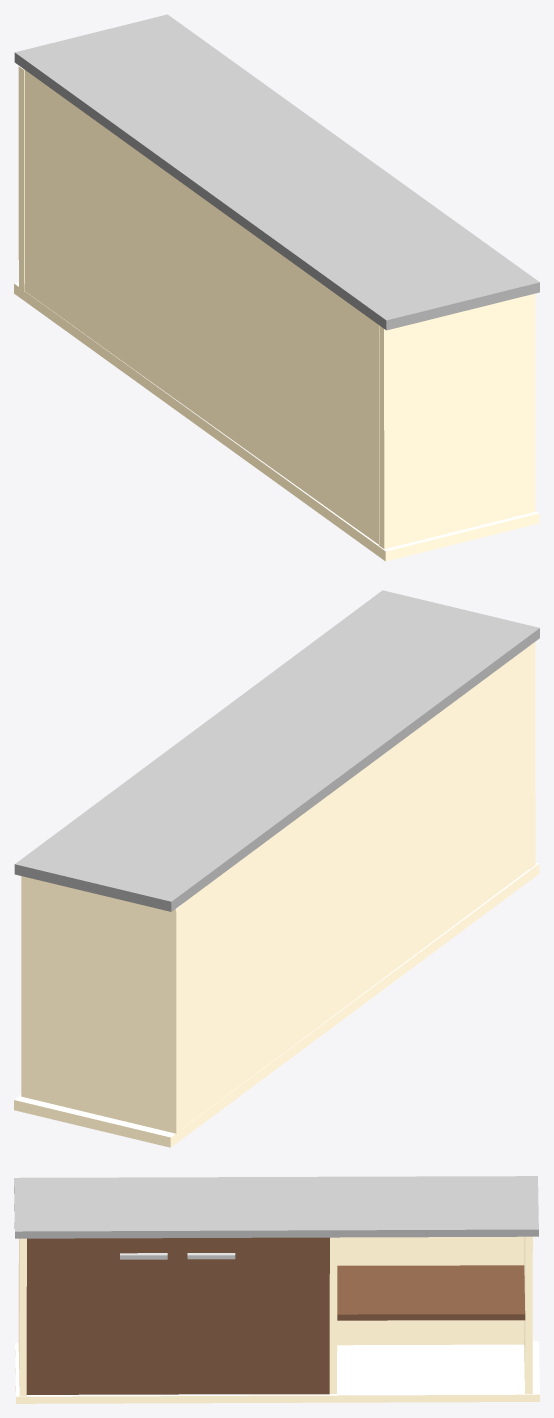
3 renders of one model, top to bottom at view 1: azimuth 30°, elevation 25°; view 2: azimuth 150°, elevation 25°; view 3: azimuth 270°, elevation 25°, orthographic. The views are drawn at different scales.
Visible parts, largest first — view 1: Cube.062, Cube.055, Cube.061, Cube.064, Cube.063; view 2: Cube.062, Cube.055, Cube.063, Cube.064, Cube.061; view 3: Cube.055, Cube.057, Cube.056, Cube.064, Cube.059, Cube.062, Cube.063, Cube.061, Cube.060, Cube.053, Cube.054.
Boxes of the visible parts, left/top/right/bottom form: Cube.062: left=24, top=70, right=379, bottom=544; Cube.055: left=14, top=14, right=539, bottom=330; Cube.061: left=379, top=293, right=535, bottom=549; Cube.064: left=14, top=282, right=539, bottom=561; Cube.063: left=18, top=66, right=24, bottom=291; Cube.062: left=180, top=645, right=530, bottom=1128; Cube.055: left=14, top=590, right=539, bottom=911; Cube.063: left=21, top=876, right=181, bottom=1134; Cube.064: left=14, top=863, right=539, bottom=1147; Cube.061: left=530, top=642, right=535, bottom=868; Cube.055: left=14, top=1176, right=538, bottom=1238; Cube.057: left=26, top=1238, right=178, bottom=1394; Cube.056: left=178, top=1237, right=329, bottom=1394; Cube.064: left=15, top=1341, right=539, bottom=1403; Cube.059: left=337, top=1265, right=525, bottom=1320; Cube.062: left=337, top=1236, right=524, bottom=1345; Cube.063: left=524, top=1236, right=532, bottom=1393; Cube.061: left=18, top=1238, right=26, bottom=1396; Cube.060: left=329, top=1237, right=337, bottom=1393; Cube.053: left=187, top=1253, right=235, bottom=1259; Cube.054: left=120, top=1253, right=167, bottom=1259.
Bounding box in the file's own units: 0.4242 × 0.5997 × 1.66.
